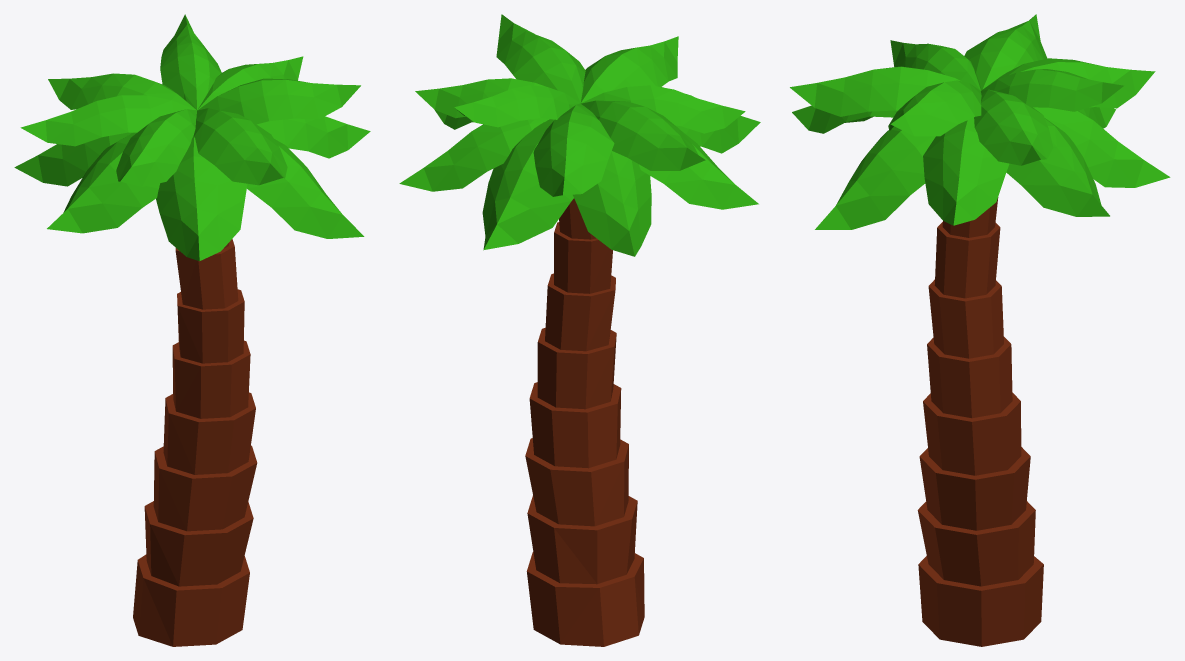
File: Tree_001_OceanStandard_001_Palm.fbx
3 renders of one model, left to right at view 1: azimuth 30°, elevation 25°; view 2: azimuth 150°, elevation 25°; view 3: azimuth 270°, elevation 25°, orthographic. The views are drawn at different scales.
Visible parts, largest first — view 1: Tree_003_OceanStandard_003_Palm; view 2: Tree_003_OceanStandard_003_Palm; view 3: Tree_003_OceanStandard_003_Palm.
Boxes of the visible parts, <box> form: Tree_003_OceanStandard_003_Palm: <box>14,14,370,646</box>; Tree_003_OceanStandard_003_Palm: <box>399,14,760,646</box>; Tree_003_OceanStandard_003_Palm: <box>790,14,1170,646</box>.
Size of the model in its own units: 347 by 558 by 338.
